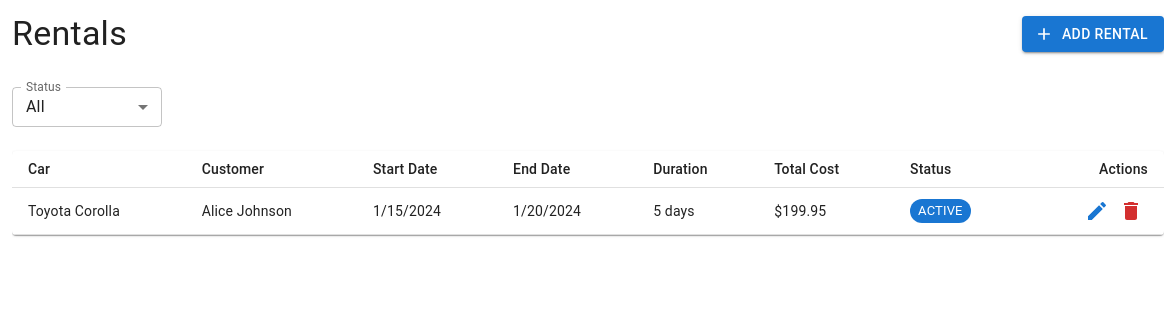
Test: RentalListPage › filters rentals by status
Check: the text "ACTIVE" is shown, box [918,203,963,218]
Step 1. Click the dropdown named "status" → (35, 107), box [26,98,45,116]
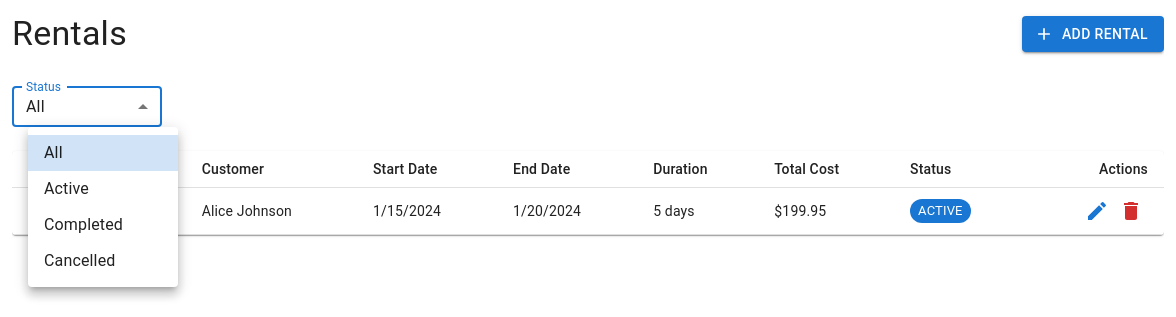
Check: the option "Active" is shown, box [44,179,89,198]
